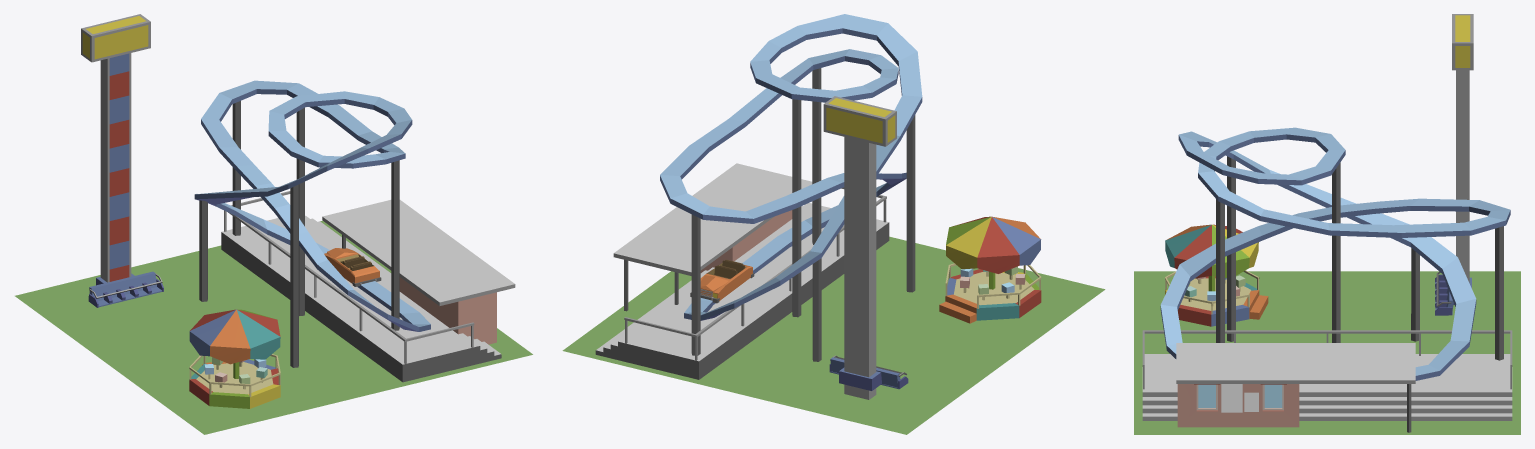
File: landscape_entertainment_003.glb
The picture shows the model from 3 angles, left to right: view 1: azimuth 30°, elevation 25°; view 2: azimuth 150°, elevation 25°; view 3: azimuth 270°, elevation 25°; orthographic projection. The views are drawn at different scales.
Parts seen in each view (by area): view 1: landscape_entertainment_003; view 2: landscape_entertainment_003; view 3: landscape_entertainment_003.
Boxes of the visible parts, x1,y1,x2,y2 form: landscape_entertainment_003: [15, 14, 532, 434]; landscape_entertainment_003: [562, 14, 1105, 434]; landscape_entertainment_003: [1134, 14, 1520, 434].
Bounding box in the file's own units: 16.13 × 12.92 × 16.
1 material, 1 textured.
